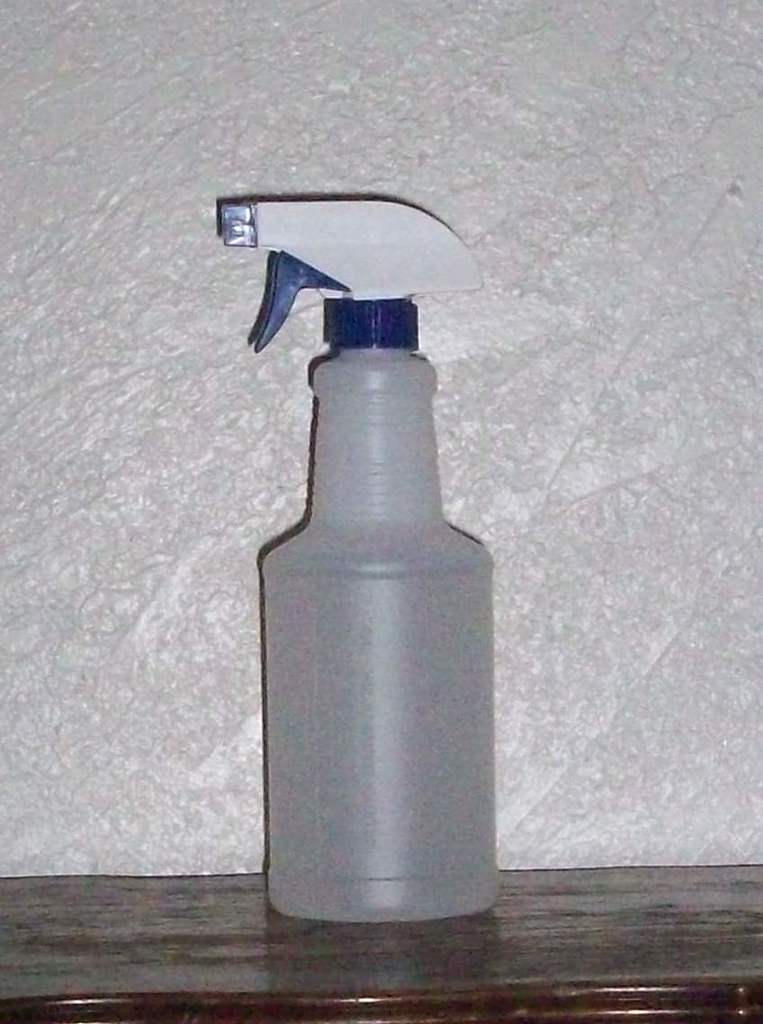can: (215, 193, 496, 920)
